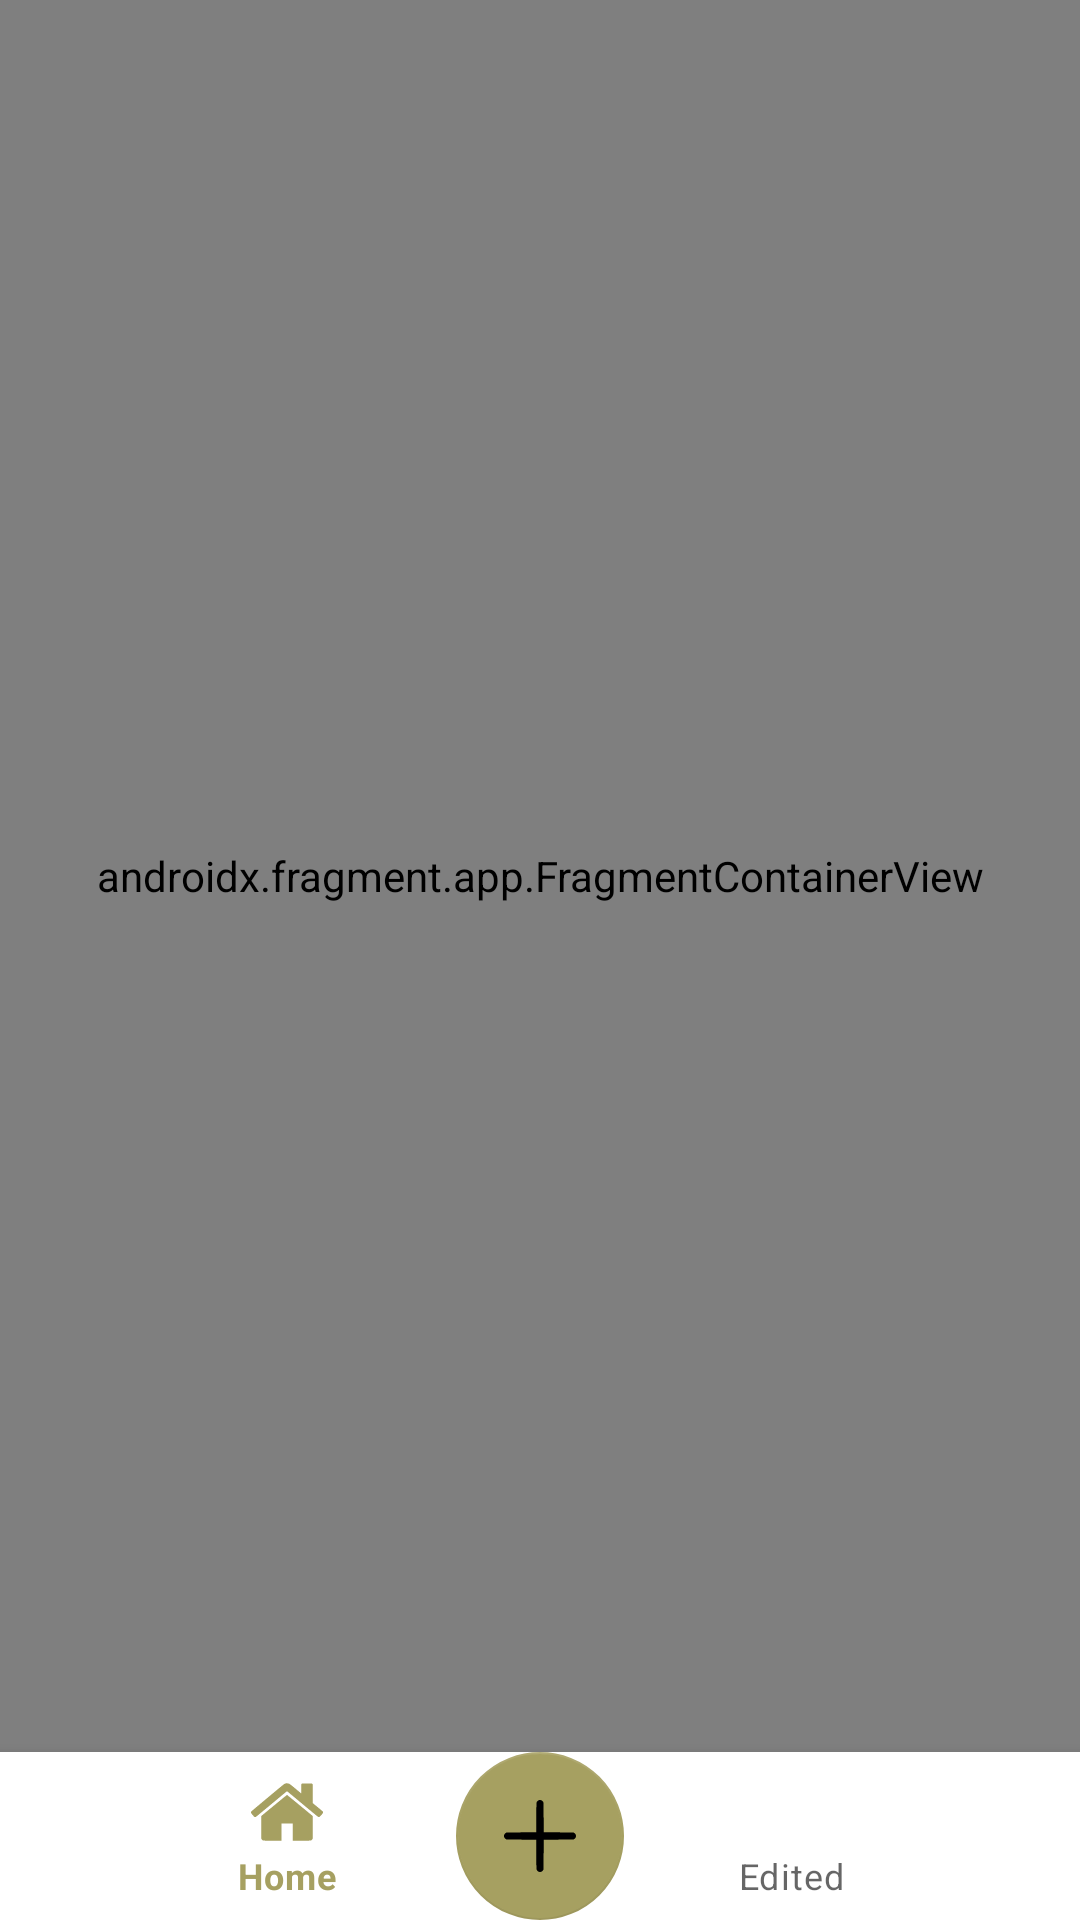

Locate icon controls on the screen. Image size 1080px x 1920px, boxes as (x1,y1,x2,y2).
plus add: (456,1752,624,1920)
